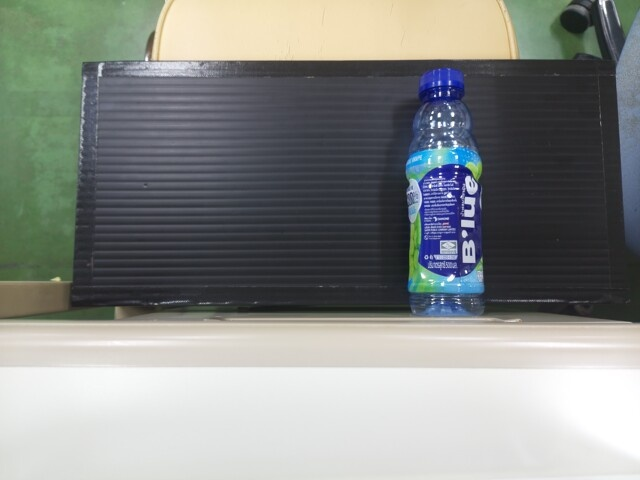plastic_bottle: (404, 63, 480, 305)
